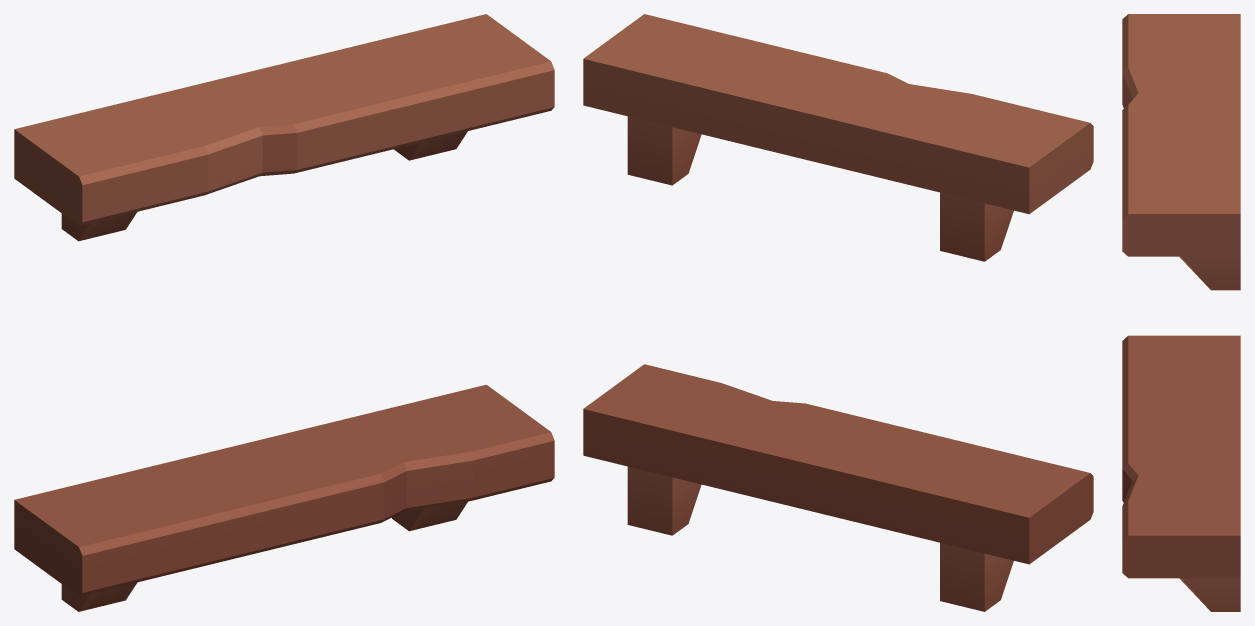
The model's file is shelves.glb.
3 renders of one model, left to right at view 1: azimuth 30°, elevation 25°; view 2: azimuth 150°, elevation 25°; view 3: azimuth 270°, elevation 25°, orthographic. The views are drawn at different scales.
Parts seen in each view (by area): view 1: shelves; view 2: shelves; view 3: shelves.
Boxes of the visible parts, x1=… form: shelves: x1=14, y1=14, x2=554, y2=611; shelves: x1=583, y1=14, x2=1093, y2=611; shelves: x1=1122, y1=14, x2=1240, y2=611.
Bounding box in the file's own units: 2 × 1.95 × 0.5001.
Materials: 1 (1 with a texture image).
